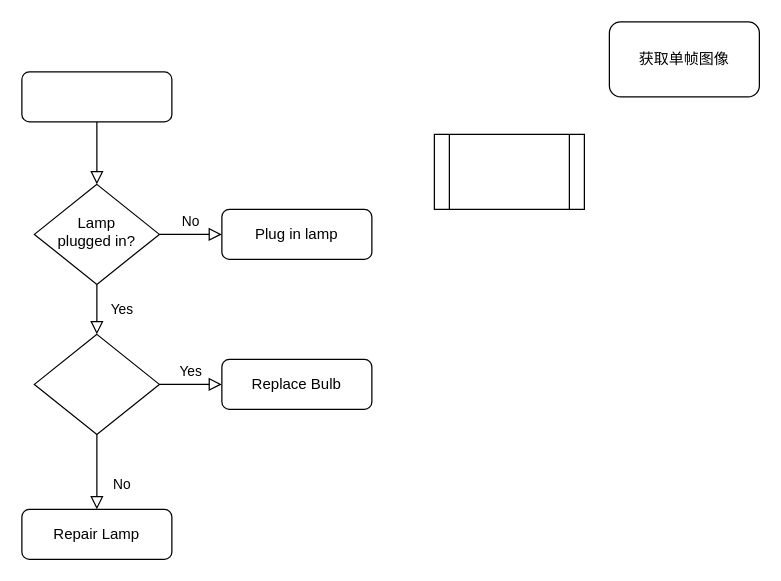
This 781x581 diagram has some shape labels left out. The shapes that lost their labels are listed below. From the top down, each one's centre as x and y in pixels, then its label:
At (96,96): "Lamp doesn't work".
At (96,383): "Bulb burned out?".
